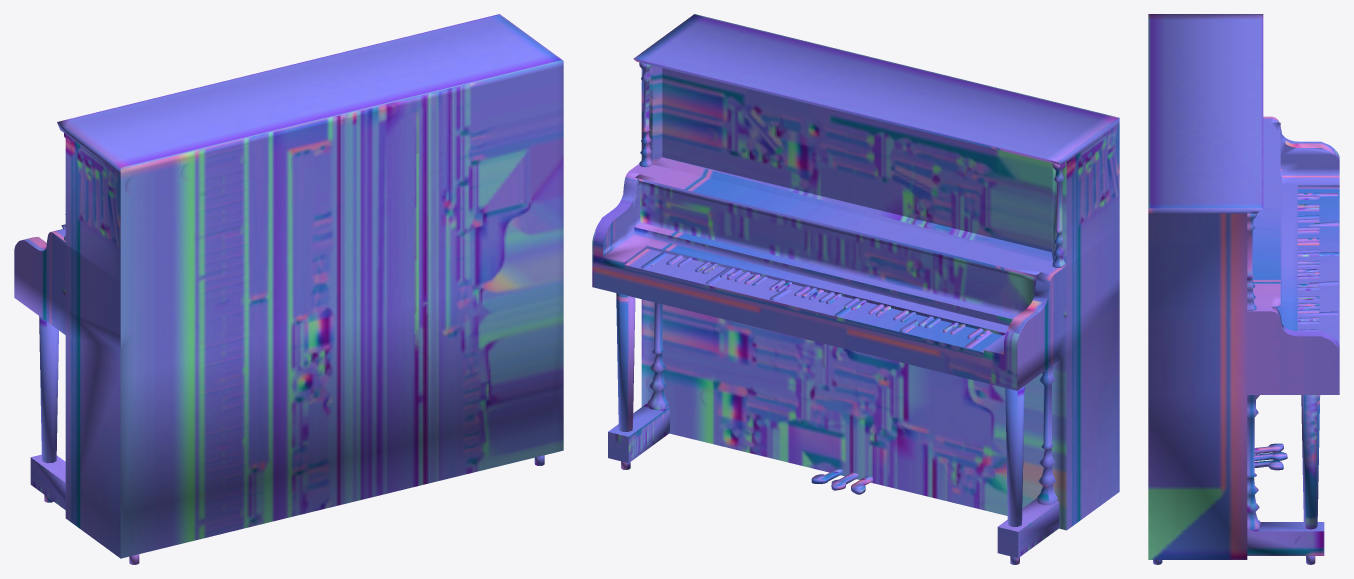
The model's file is Piano.glb.
3 views of the same model, side by side, from view 1: azimuth 30°, elevation 25°; view 2: azimuth 150°, elevation 25°; view 3: azimuth 270°, elevation 25° (orthographic). The views are drawn at different scales.
Parts seen in each view (by area): view 1: Piano; view 2: Piano; view 3: Piano.
Boxes of the visible parts, bbox=[...] form: Piano: bbox=[14, 14, 563, 564]; Piano: bbox=[592, 14, 1119, 564]; Piano: bbox=[1148, 14, 1339, 564].
Size of the model in its own units: 17.02 by 14.78 by 7.08.
Materials: 1 (1 with a texture image).
